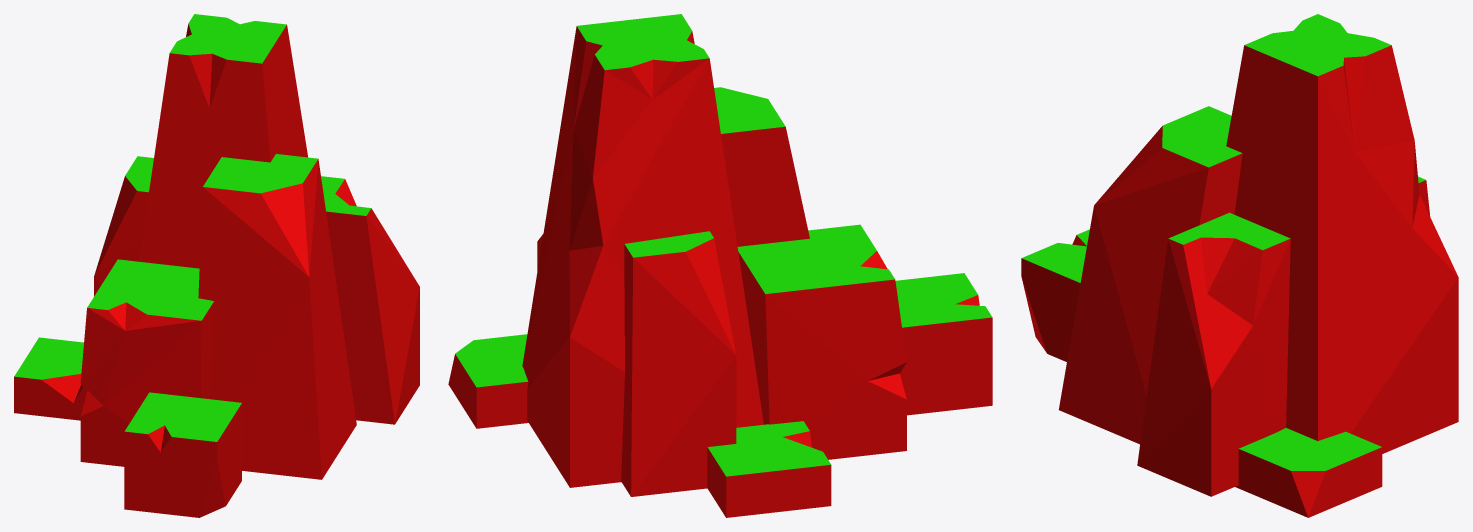
File: rock02.fbx
The picture shows the model from 3 angles, left to right: view 1: azimuth 30°, elevation 25°; view 2: azimuth 150°, elevation 25°; view 3: azimuth 270°, elevation 25°; orthographic projection. The views are drawn at different scales.
Visible parts, largest first — view 1: rock_02; view 2: rock_02; view 3: rock_02.
Part boxes in pixels (<box>): rock_02: <box>14,14,419,517</box>; rock_02: <box>448,14,992,517</box>; rock_02: <box>1021,14,1458,517</box>.
Bounding box in the file's own units: 361 × 328 × 314.
